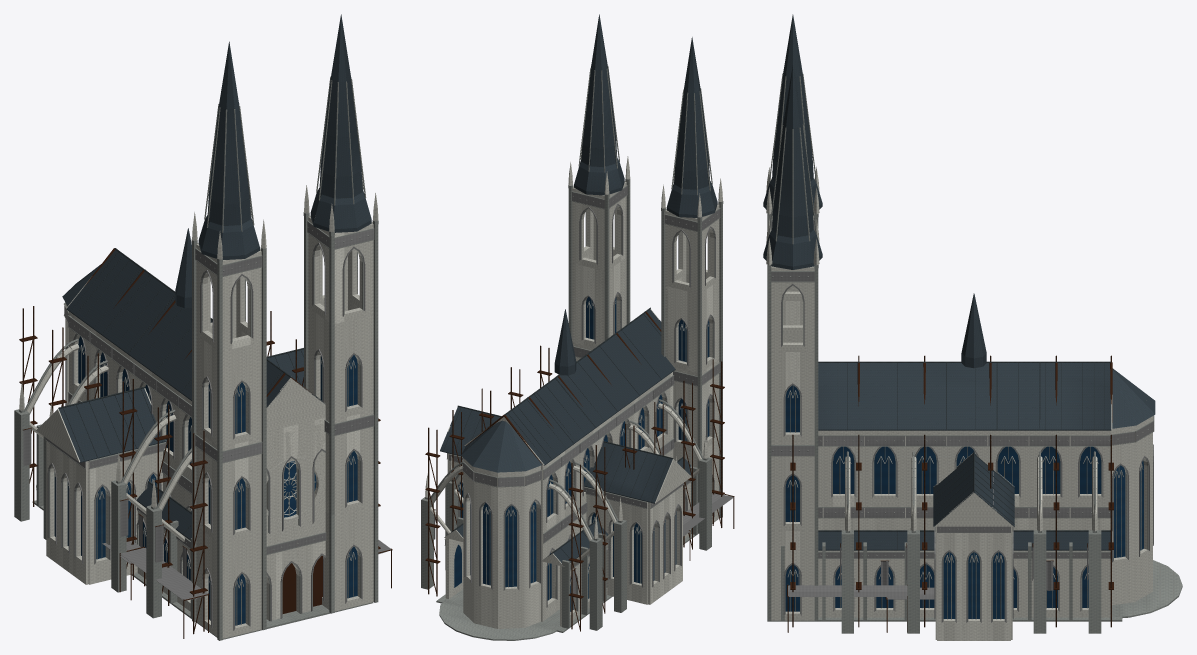
Rendered from great_cathedral.glb.
The picture shows the model from 3 angles, left to right: view 1: azimuth 30°, elevation 25°; view 2: azimuth 150°, elevation 25°; view 3: azimuth 270°, elevation 25°; orthographic projection. The views are drawn at different scales.
Visible parts, largest first — view 1: LOD0.002, LOD0.001, LOD0; view 2: LOD0.002, LOD0, LOD0.001; view 3: LOD0, LOD0.001, LOD0.002.
Part boxes in pixels (x1=…): LOD0.002: x1=14, y1=14, x2=378, y2=640; LOD0.001: x1=36, y1=228, x2=392, y2=638; LOD0: x1=19, y1=248, x2=380, y2=639; LOD0.002: x1=421, y1=14, x2=723, y2=630; LOD0: x1=425, y1=311, x2=724, y2=640; LOD0.001: x1=440, y1=307, x2=734, y2=604; LOD0: x1=771, y1=355, x2=1182, y2=632; LOD0.001: x1=787, y1=293, x2=1112, y2=640; LOD0.002: x1=763, y1=14, x2=1101, y2=633.
Size of what is drawn, in the model's own units: 5.12 by 11 by 7.64.
2 materials, 2 textured.
